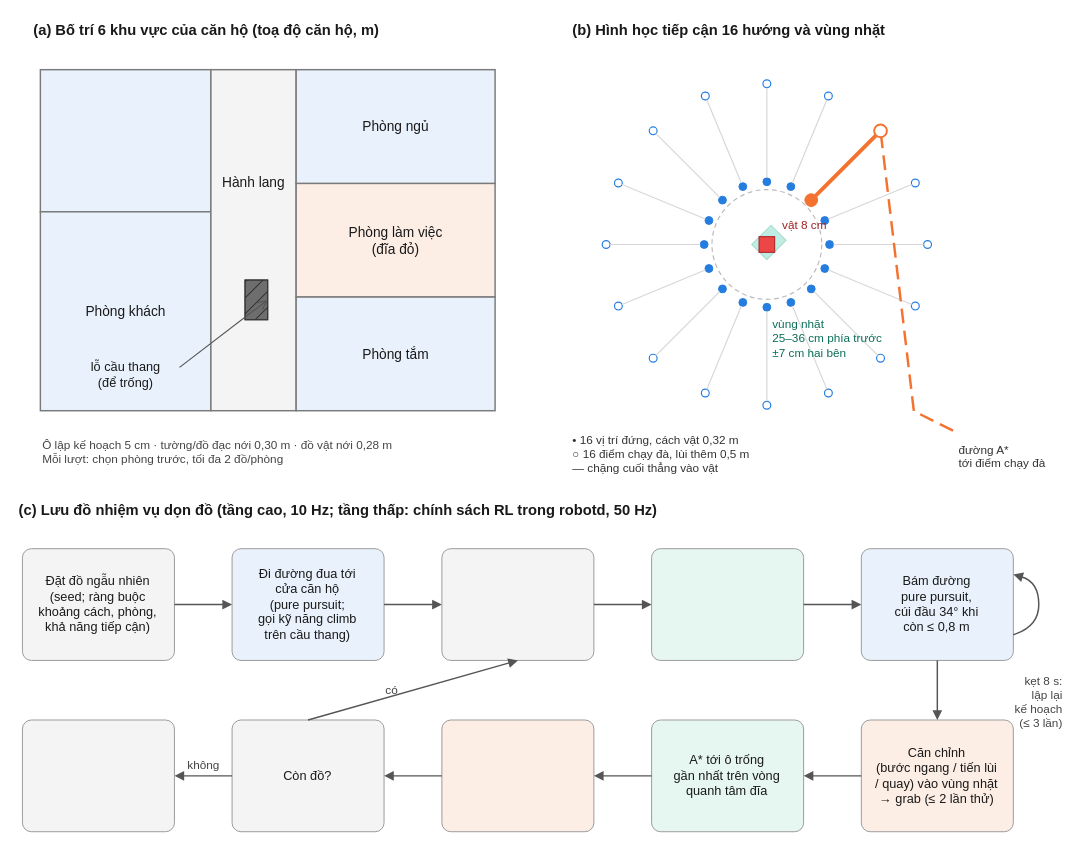
Some shapes in this 1091 by 849 pixel diagram are drawn without their labels. Each missing label, with the centre of its shape:
A* đa đích tới 16 điểm chạy đà → chặng thẳng 0,5 m: [727,604]
Bếp: [125,140]
Chọn món gần nhất chưa mang về (tham lam): [517,604]
Đi vào tâm đĩa qua khe giữa hai món; dừng: [97,775]
Đứng cách 0,26 m, căn chính xác, release, lùi 1 s (kiểm tra đá đổ): [517,775]
